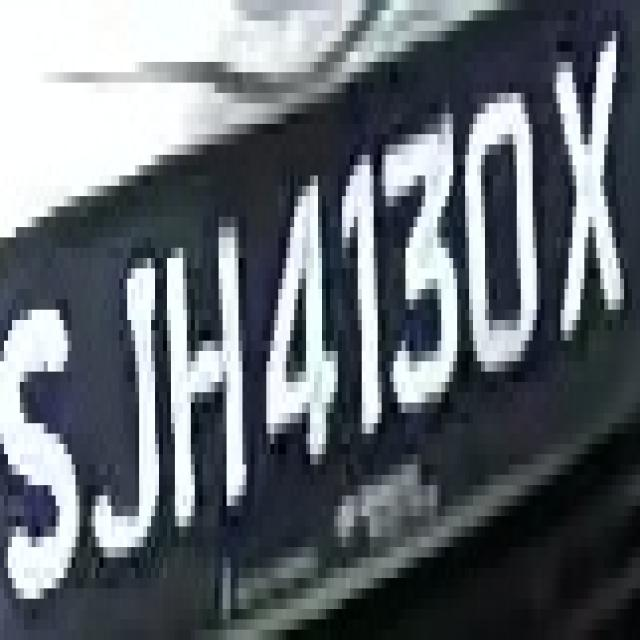0: (453, 72, 541, 403)
1: (330, 124, 390, 464)
3: (378, 124, 461, 423)
4: (254, 175, 338, 496)
H: (155, 196, 258, 558)
J: (91, 196, 163, 578)
S: (8, 258, 87, 640)
X: (541, 21, 636, 340)
